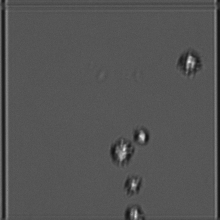Living Cell: (108, 135, 139, 167), (177, 48, 205, 78), (131, 123, 153, 152), (122, 171, 150, 193), (122, 202, 149, 220)
